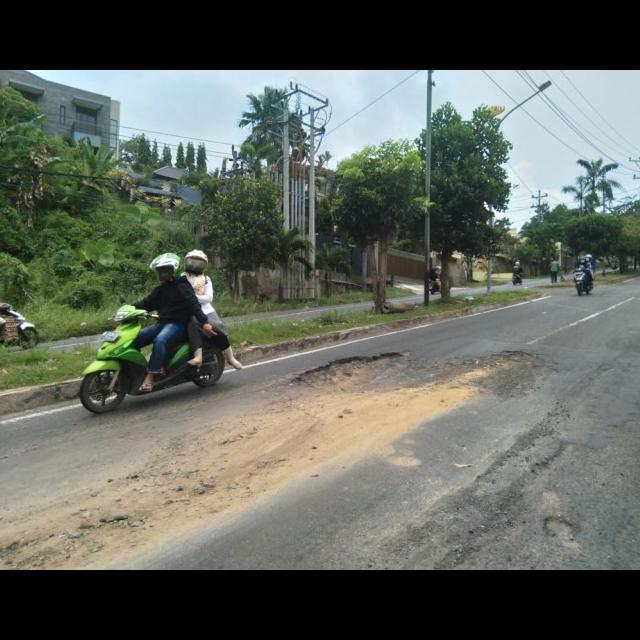lubang_kecil: (290, 335, 408, 399), (478, 337, 535, 383), (537, 494, 576, 556)
